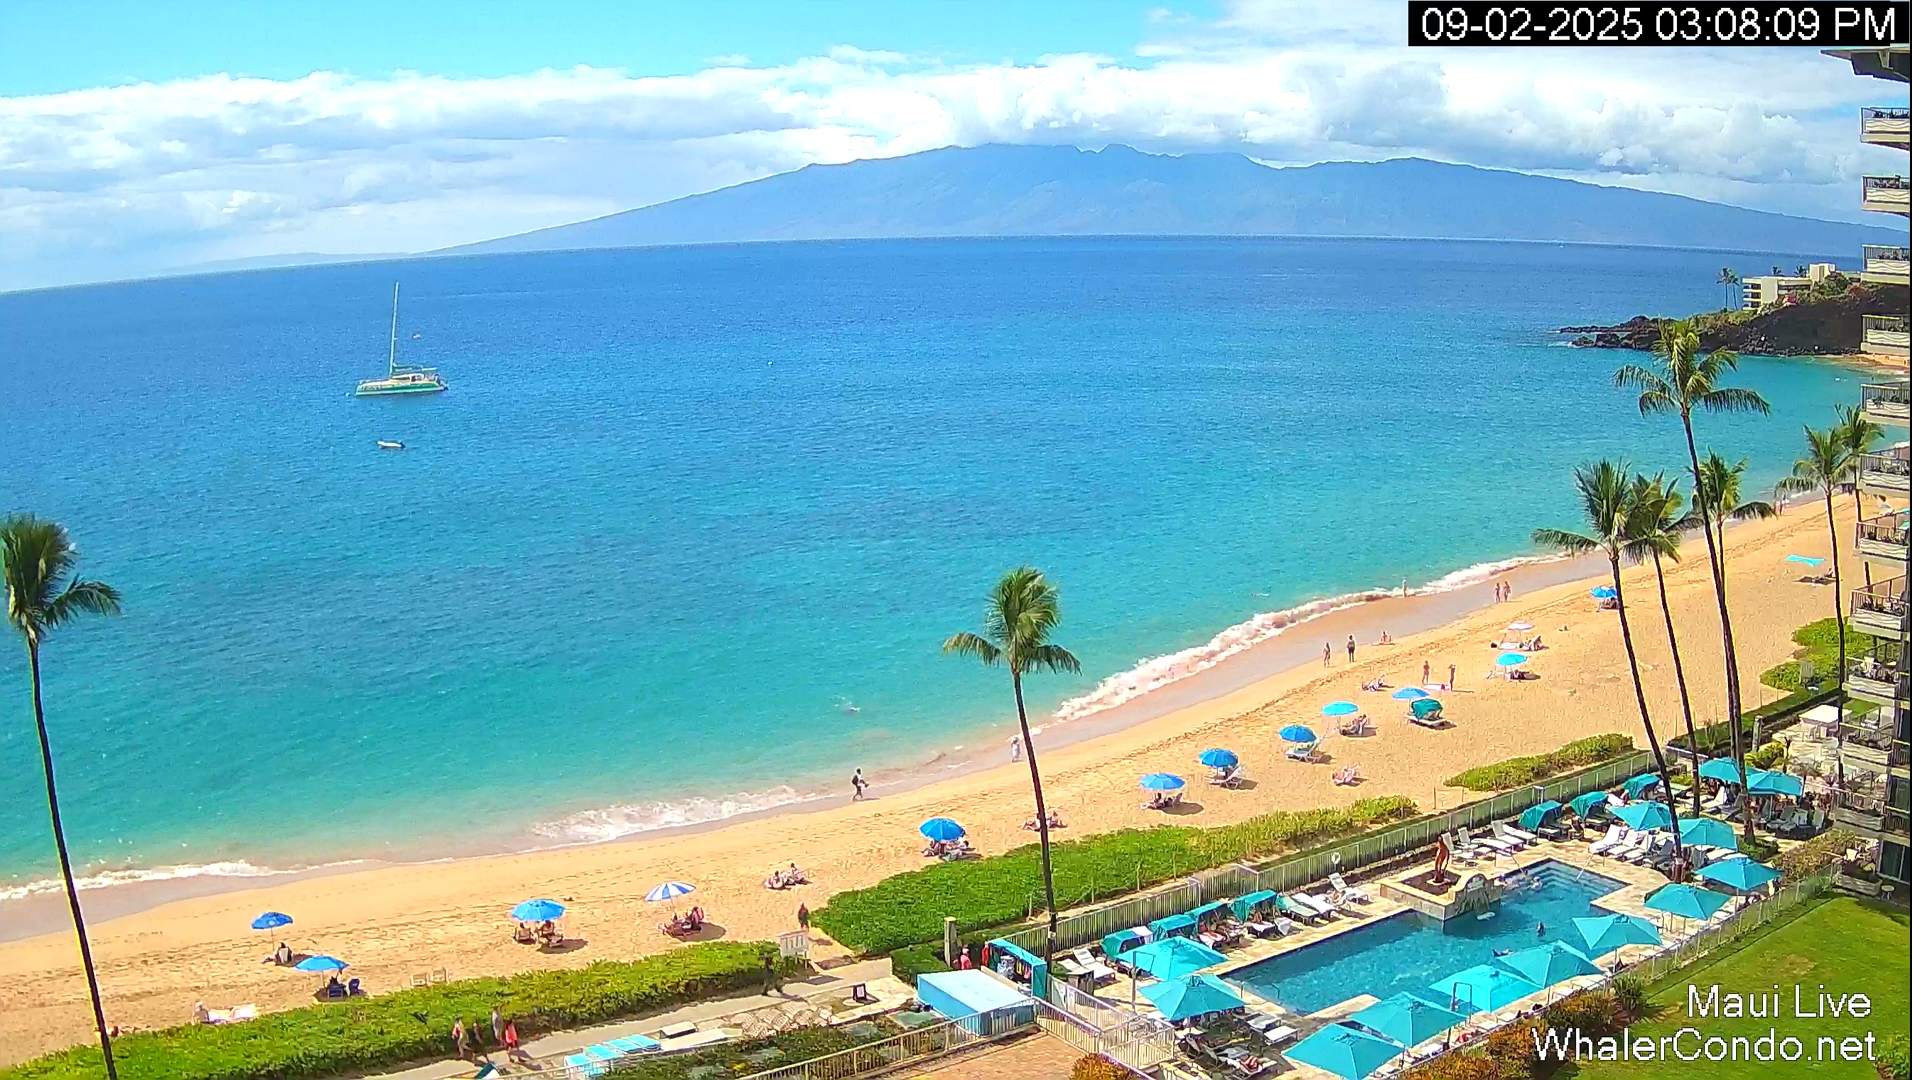boat: (354, 281, 448, 397), (377, 440, 406, 449)
person: (948, 566, 1061, 640), (451, 1017, 469, 1059), (851, 768, 869, 802), (682, 906, 705, 931), (275, 941, 293, 965), (192, 1000, 210, 1024), (505, 1021, 518, 1049), (798, 902, 810, 931), (1555, 1027, 1568, 1051), (960, 945, 972, 970), (539, 920, 554, 939), (1346, 635, 1356, 663), (1322, 641, 1332, 667), (1011, 737, 1021, 762), (1422, 660, 1431, 686), (1448, 663, 1456, 692), (1503, 580, 1512, 602), (1049, 811, 1060, 828), (1494, 582, 1501, 603), (1537, 921, 1546, 937), (512, 1024, 518, 1048), (1381, 631, 1389, 640), (1347, 634, 1355, 640)
